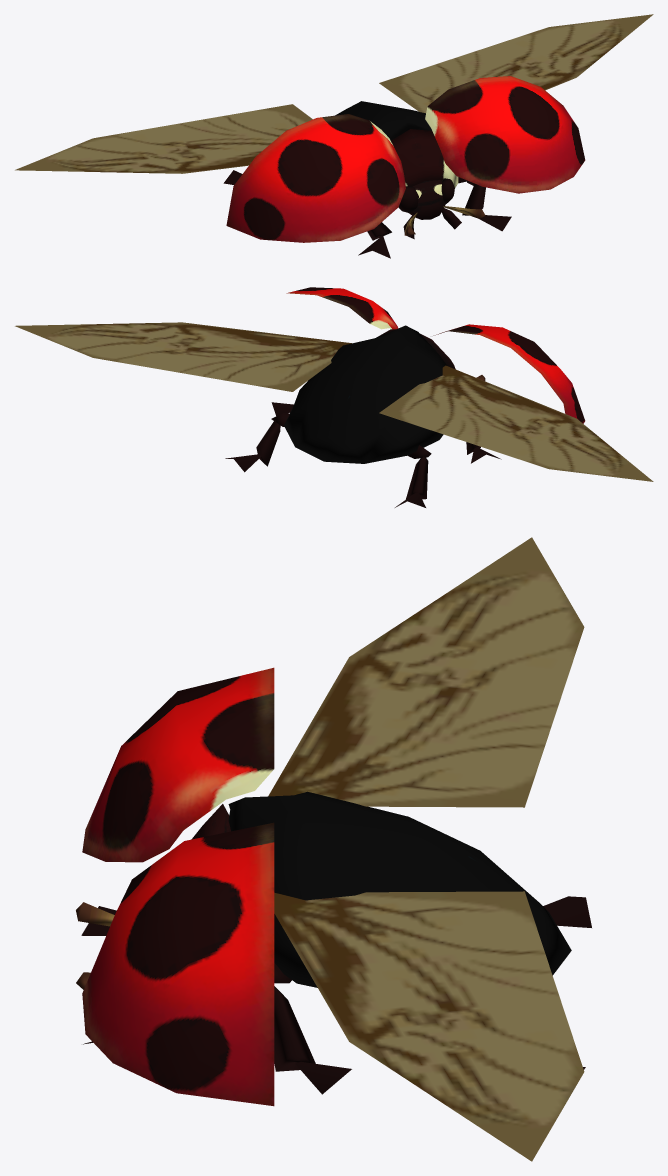
File: InsectTentoumushi.glb
3 renders of one model, top to bottom at view 1: azimuth 30°, elevation 25°; view 2: azimuth 150°, elevation 25°; view 3: azimuth 270°, elevation 25°, orthographic. The views are drawn at different scales.
Parts seen in each view (by area): view 1: body21__mTentou, body34__mWing; view 2: body34__mWing, body21__mTentou; view 3: body34__mWing, body21__mTentou.
Boxes of the visible parts, box(x1,y1,x2,y2) form: body21__mTentou: box(223, 76, 585, 258); body34__mWing: box(15, 14, 653, 173); body34__mWing: box(15, 322, 653, 481); body21__mTentou: box(225, 287, 585, 507); body34__mWing: box(268, 537, 584, 1161); body21__mTentou: box(76, 667, 591, 1106).
Size of the model in its own units: 4.35 by 0.7993 by 1.52.
2 materials, 2 textured.
